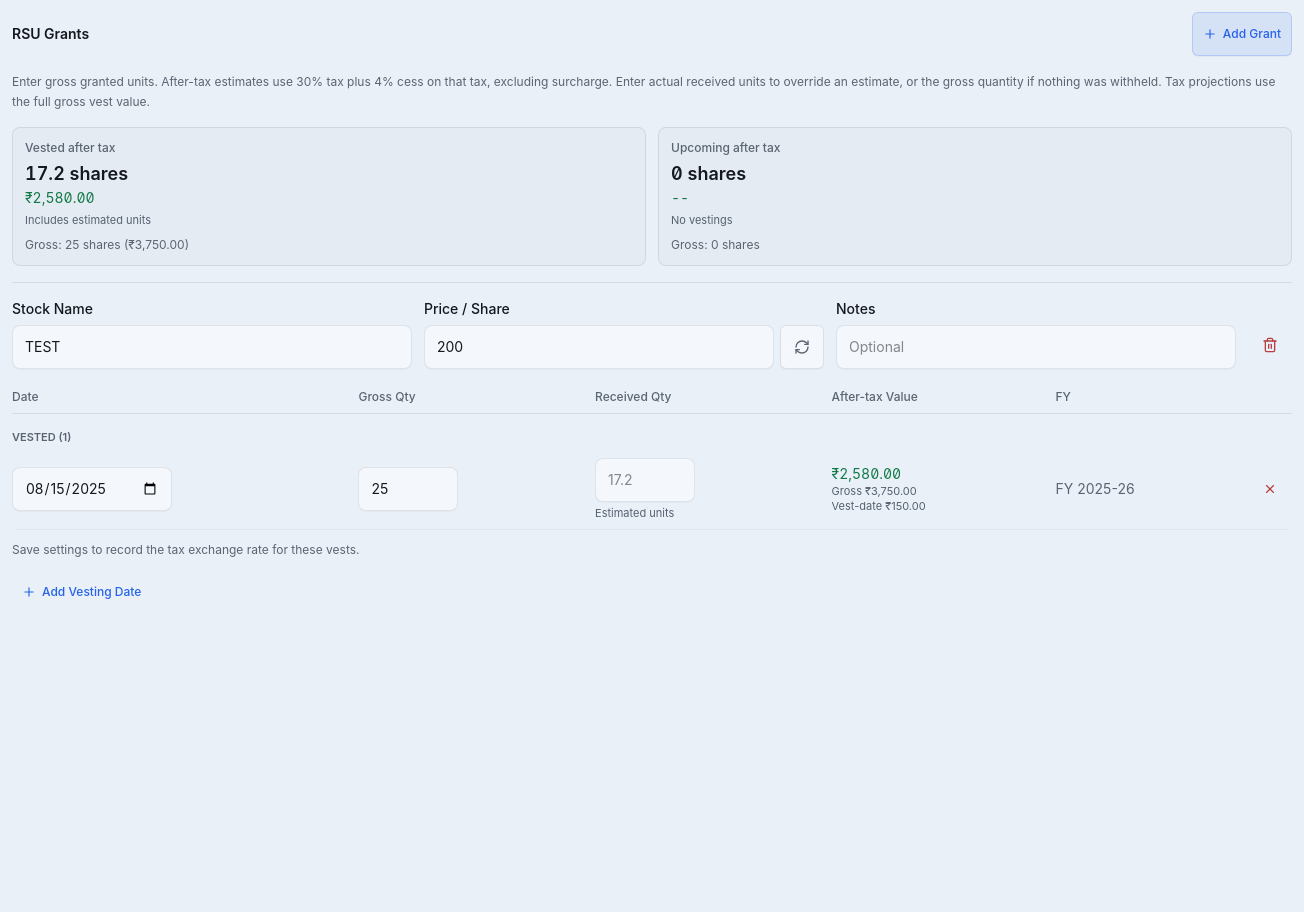
Test case: RSU received-unit settings › does not replace a current INR price with an unconverted foreign price
Click the button named "Fetch latest price for TEST". click: (802,346)
box: left=780, top=324, right=824, bottom=368
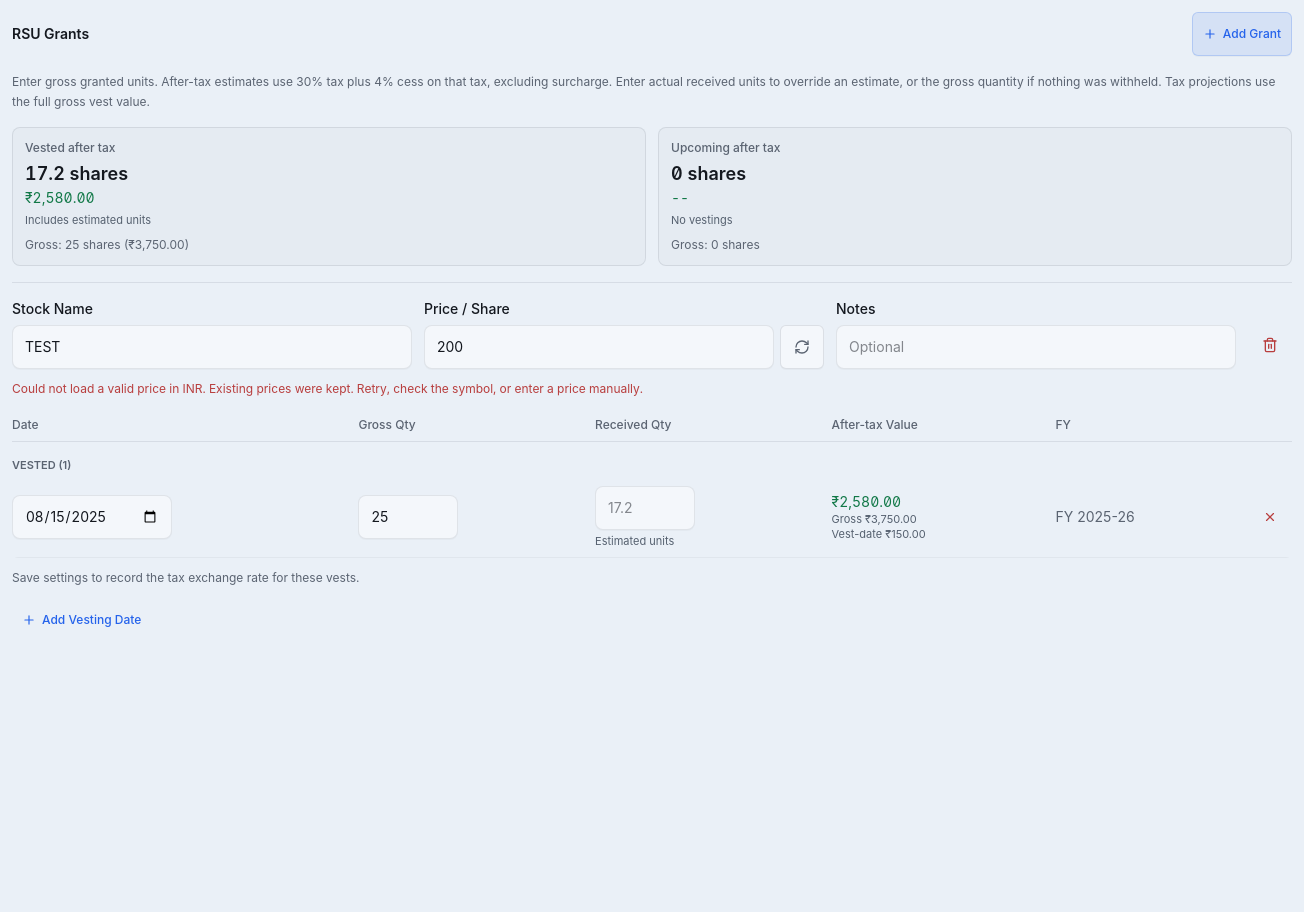
Expected: the number field labelled "Price / Share" holds "200", left=424, top=324, right=774, bottom=368
Result: the text "Could not load a valid price in INR" is shown at left=12, top=380, right=643, bottom=396
